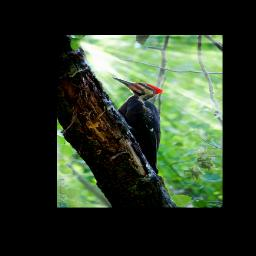Woodpecker: (111, 77, 165, 175)
